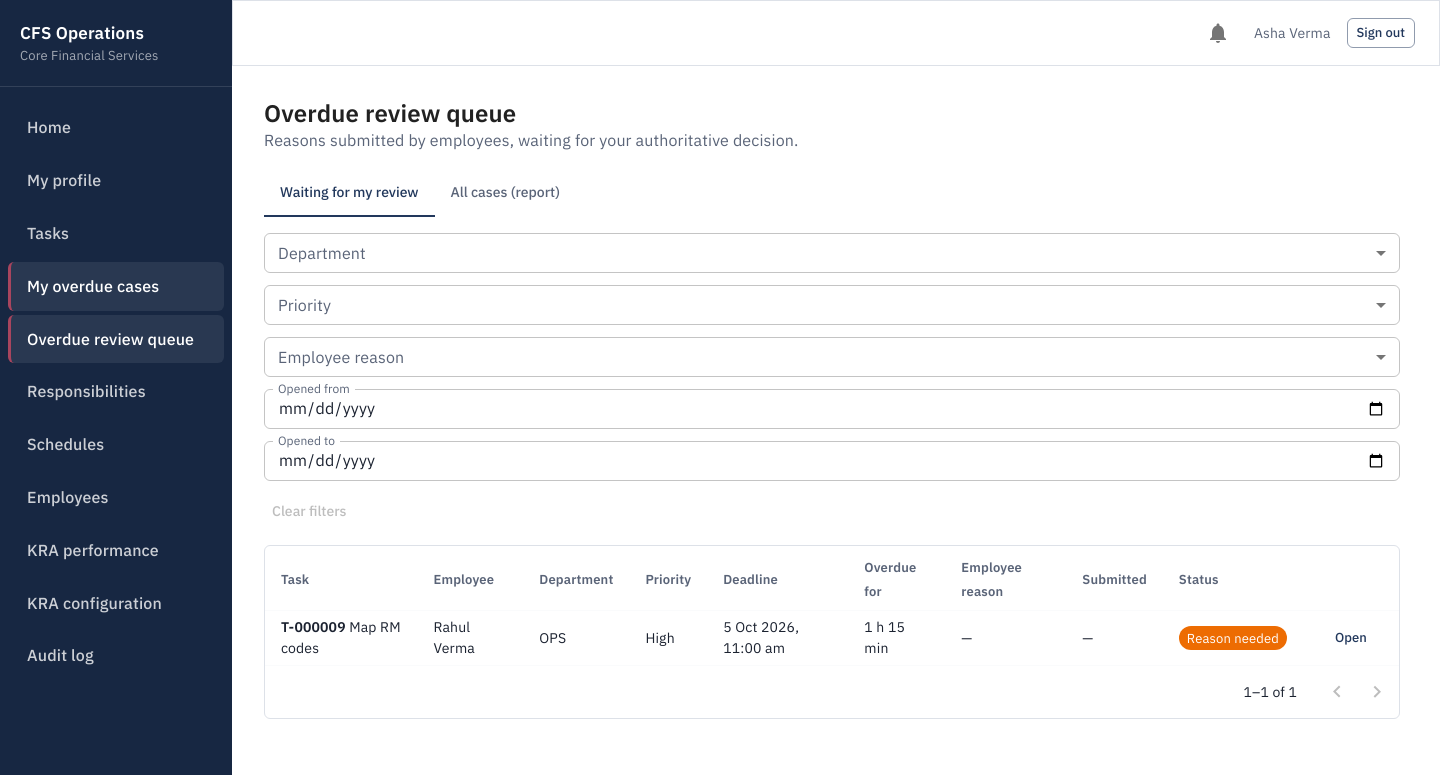
Test: Overdue report and export (Stage 5.3) › surfaces an export error from the backend
Click the tab "All cases (report)": [505, 193] box [435,169,576,217]
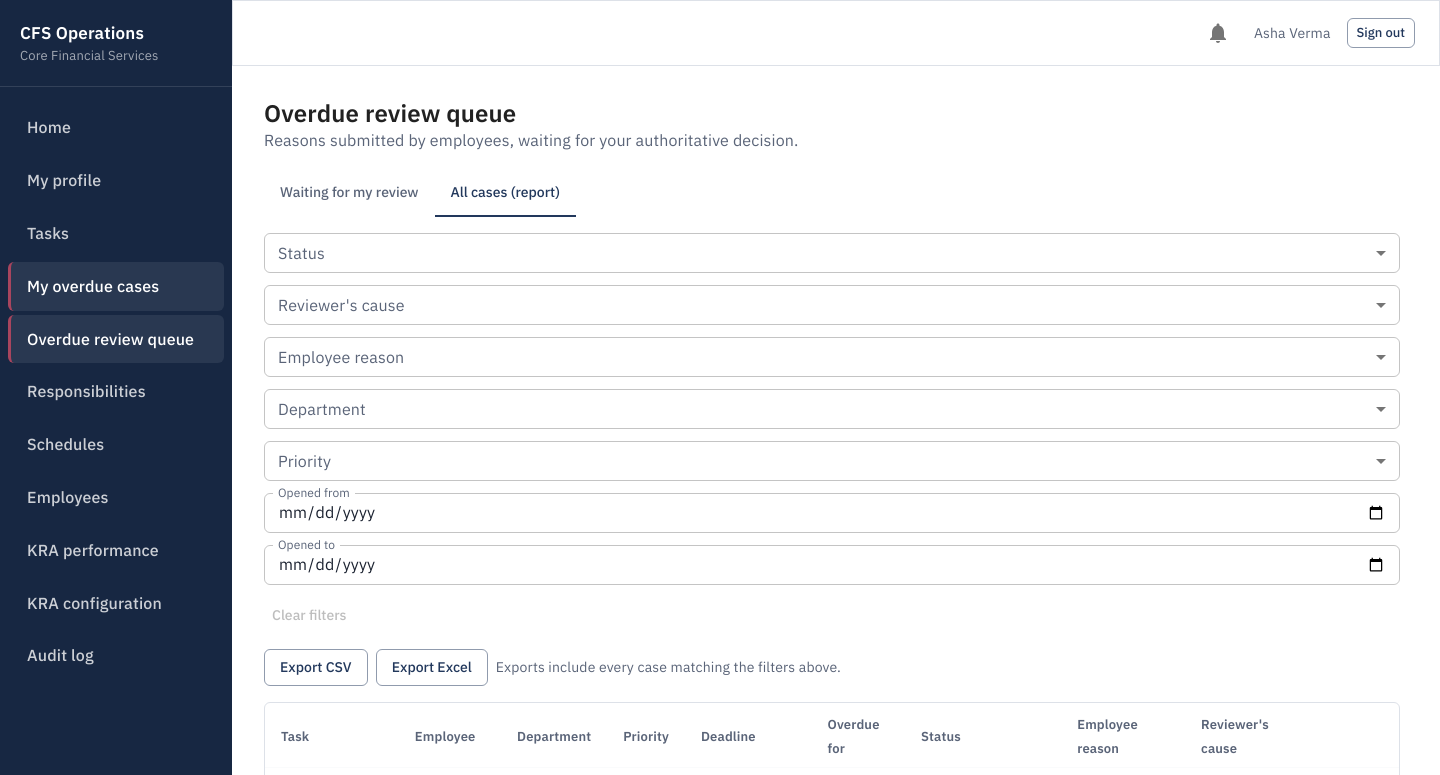
Click the button "Export CSV": [316, 668] box [264,649,368,686]
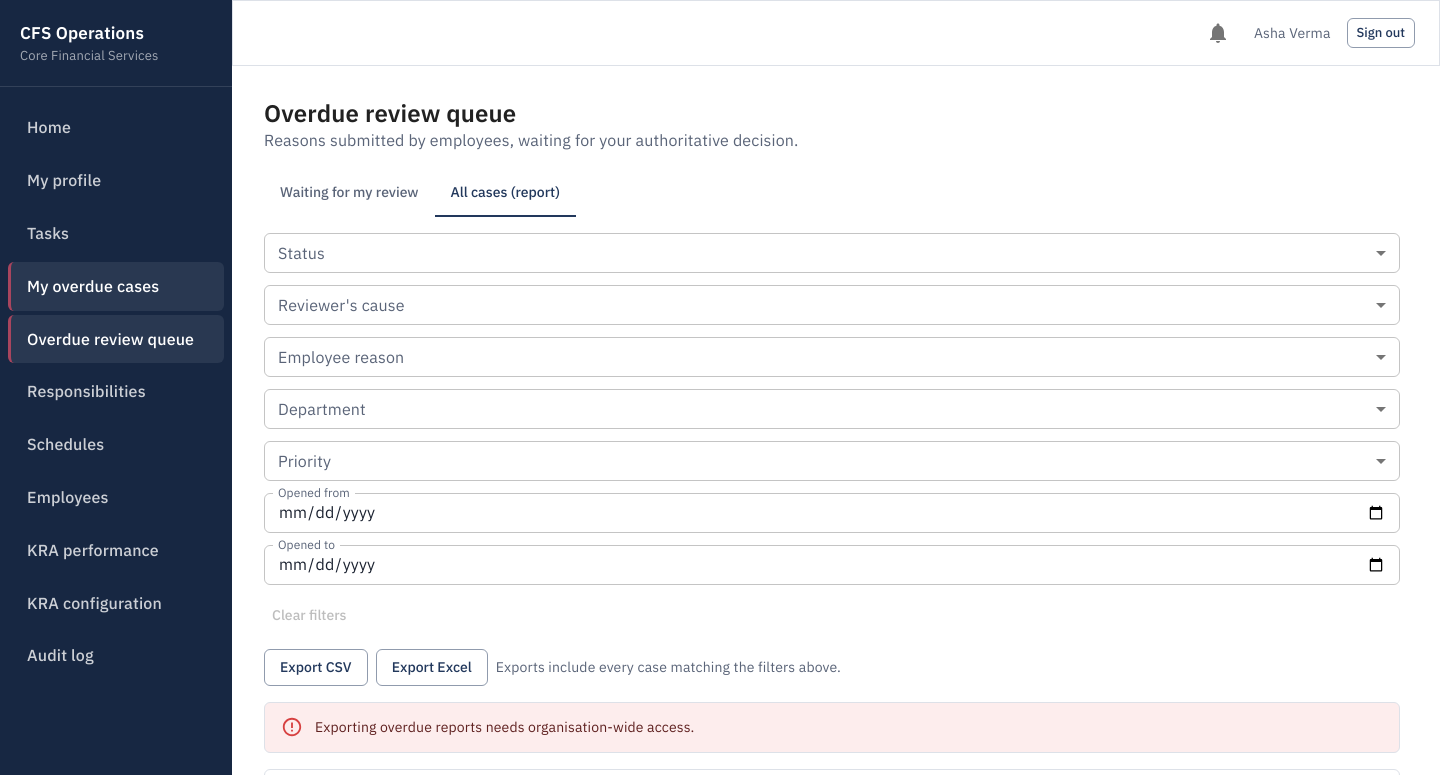
Check: the text "Exporting overdue reports needs organisation-wide access." is shown, box [315,718,694,736]
